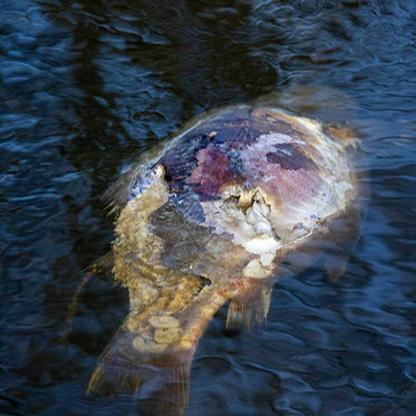deceased fish: (85, 73, 365, 410)
